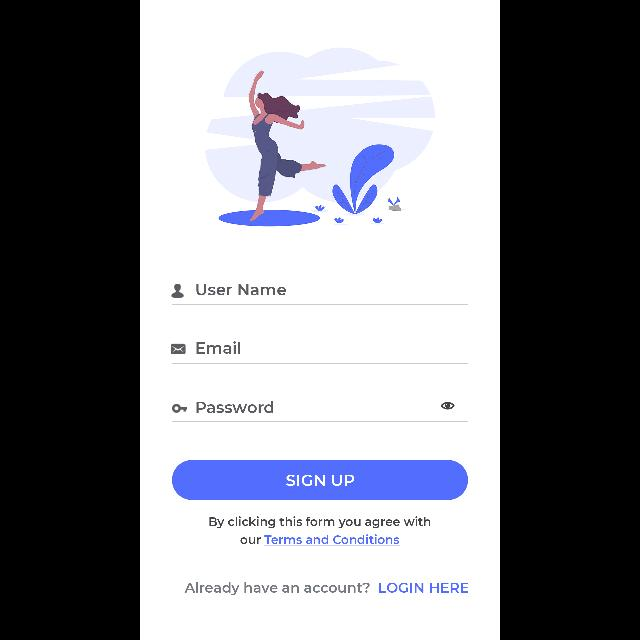icon: (172, 284, 184, 298), (170, 344, 186, 354), (441, 402, 455, 410)
image: (204, 48, 436, 226), (172, 403, 188, 412)
input: (172, 283, 468, 305), (172, 342, 468, 364), (172, 402, 468, 422)
text: (210, 516, 430, 546), (184, 582, 370, 596), (196, 284, 286, 296), (196, 401, 274, 413), (379, 583, 468, 593), (197, 342, 241, 354)
textbutton: (172, 460, 468, 500)
